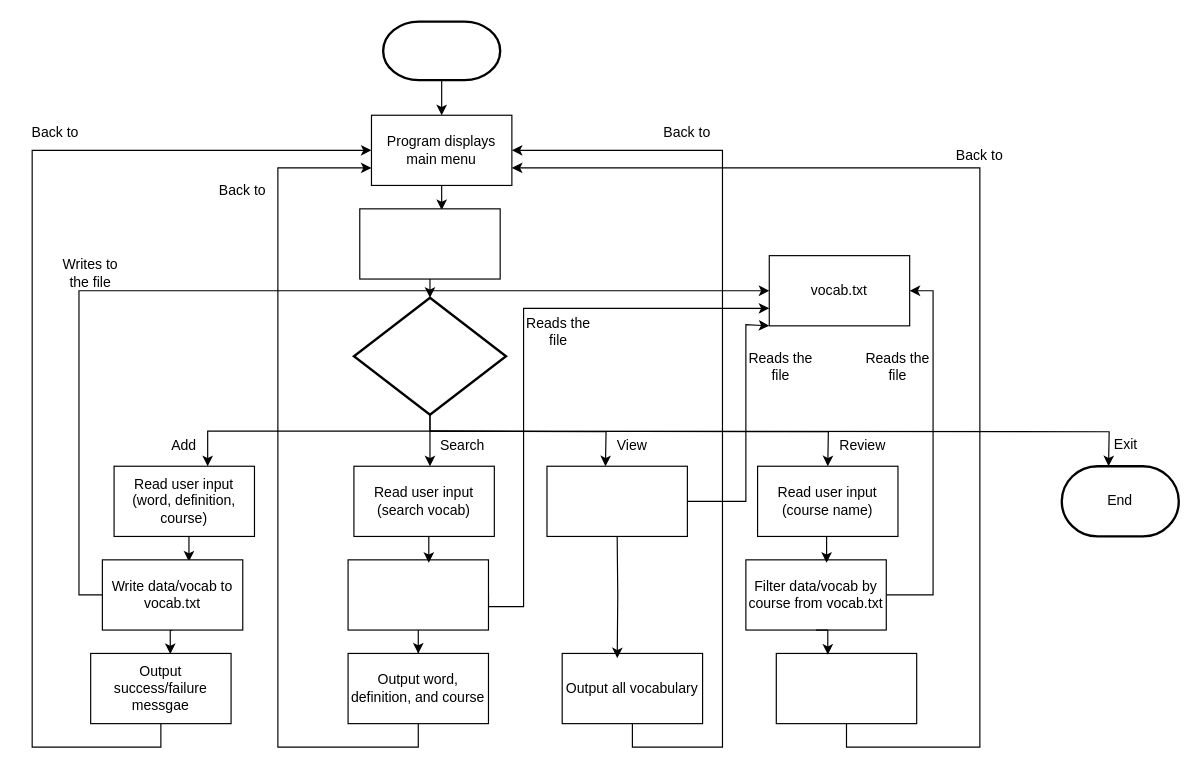
The diagram is 1199 pixels wide and 777 high, and some of its shapes have lost their labels. The shapes that lost their labels are listed below. From the top down, each one's centre as x and y in pixels, then its label:
the point at 441,50: Start
the point at 429,243: Reads user choice
the point at 429,355: Which option does the user choose
the point at 616,500: Read data/vocab from vocab.txt
the point at 417,594: Search data/vocab in vocab.txt
the point at 846,688: Output corresponding words
